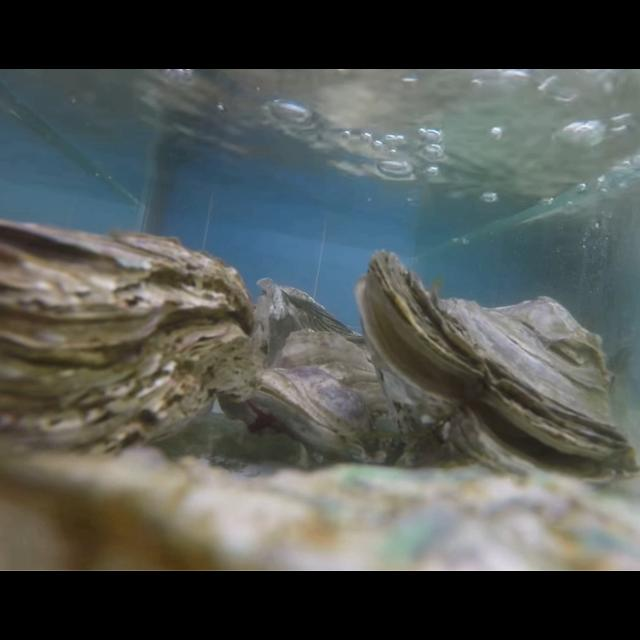Oyster-Closed: (1, 218, 256, 486), (248, 330, 412, 468)
Oyster-Indeterminate: (0, 447, 640, 571), (254, 278, 370, 369)
Oyster-Open: (354, 247, 640, 495)
